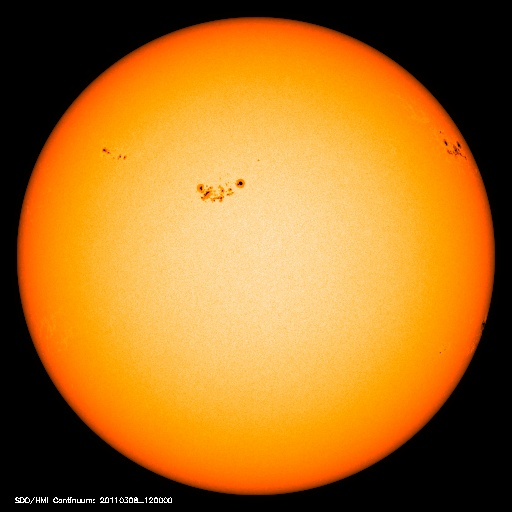sunspot: (192, 152, 267, 204), (432, 123, 472, 164), (97, 139, 133, 168), (470, 313, 495, 339)
